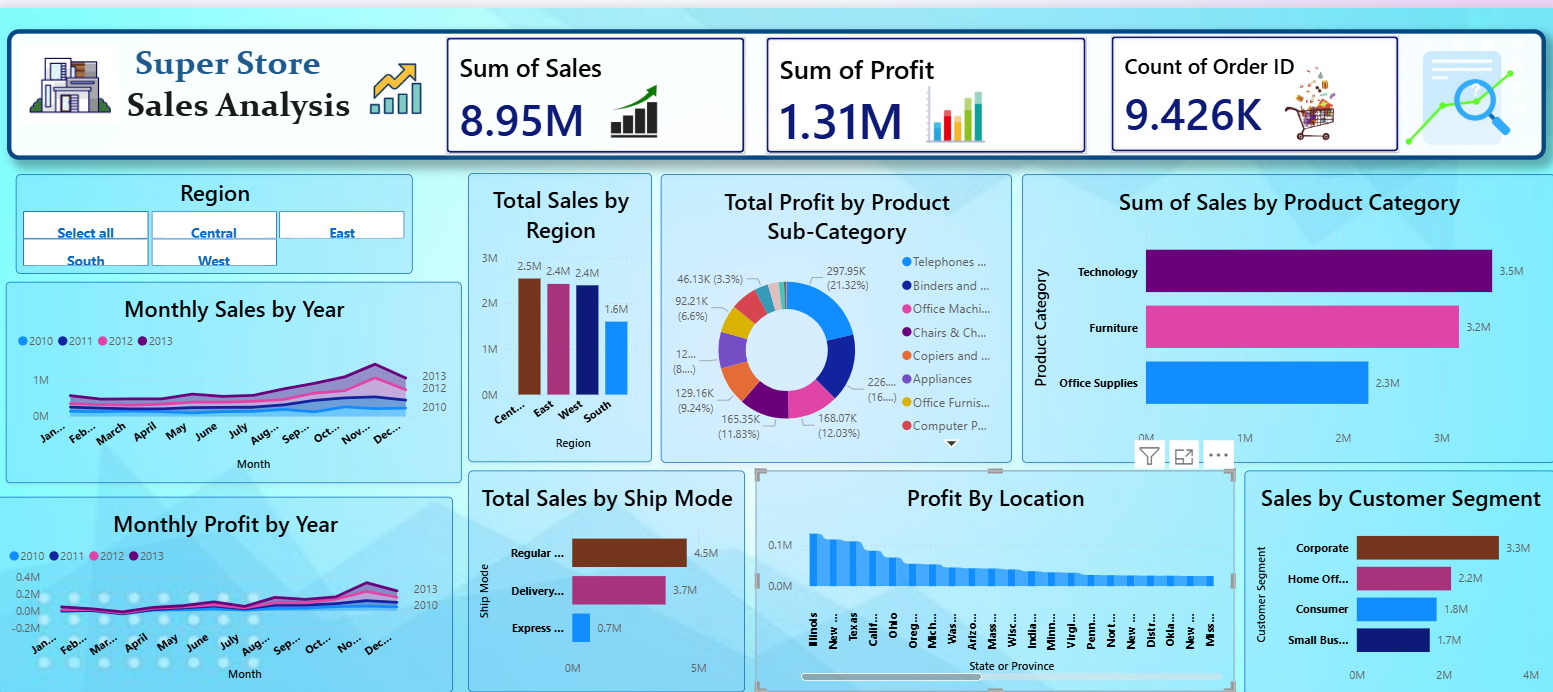

What the dashboard file says about the page in this screenshot:
{"tool":"powerbi","page":{"name":"Dashboard_4","canvas":[1690,751],"ordinal":5},"visuals":[{"type":"textbox","box":[10.7,23,1668.8,141.2],"z":0},{"type":"image","box":[20.3,34.3,118.1,97.8],"z":1000},{"type":"image","box":[389.9,34.3,83.8,106.7],"z":2000},{"type":"cardVisual","fields":{"Data":["Sum(Orders.Sales)"]},"box":[486.7,30.7,325.5,127.4],"z":3000},{"type":"image","box":[629.5,0,116.7,224.1],"z":4000},{"type":"cardVisual","fields":{"Data":["Sum(Orders.Profit)"]},"box":[833.6,30.7,348.5,127.4],"z":5000},{"type":"cardVisual","fields":{"Data":["CountNonNull(Orders.Order ID)"]},"box":[1208.2,29.2,313.2,127.4],"z":6000},{"type":"image","box":[1001,67.6,76.8,96.7],"z":7000},{"type":"image","box":[1381.7,49.1,92.1,109],"z":8000},{"type":"image","box":[1492.3,0,187.3,195],"z":9000},{"type":"advancedSlicerVisual","fields":{"Values":["Users.Region"]},"box":[20.3,180.3,430.5,107.9],"z":10000},{"type":"stackedAreaChart","title":"Monthly Sales by Year","fields":{"Category":["Orders.Order Date.Variation.Date Hierarchy.Month"],"Y":["Sum(Orders.Sales)"],"Series":["Orders.Order Date.Variation.Date Hierarchy.Year"]},"box":[10.2,297.2,494,218.4],"z":11000},{"type":"stackedAreaChart","title":"Monthly Profit by Year","fields":{"Category":["Orders.Order Date.Variation.Date Hierarchy.Month"],"Series":["Orders.Order Date.Variation.Date Hierarchy.Year"],"Y":["Sum(Orders.Profit)"]},"box":[0,529.6,494,213.4],"z":12000},{"type":"columnChart","title":"Total Sales by Region","fields":{"Category":["Users.Region"],"Y":["Sum(Orders.Sales)"]},"box":[510.5,179.1,199.4,313.7],"z":13000},{"type":"donutChart","title":"Total Profit by Product Sub-Category","fields":{"Y":["Sum(Orders.Profit)"],"Category":["Orders.Product Sub-Category"]},"box":[720,179.6,380.7,313.2],"z":14000},{"type":"clusteredBarChart","title":"Total Sales by Ship Mode","fields":{"Category":["Orders.Ship Mode"],"Y":["Sum(Orders.Sales)"]},"box":[510.5,501.6,299.7,241.3],"z":15000},{"type":"clusteredBarChart","title":"Sales by Customer Segment","fields":{"Category":["Orders.Customer Segment"],"Y":["Sum(Orders.Sales)"]},"box":[1352.6,502,337.8,248.7],"z":16000},{"type":"clusteredBarChart","fields":{"Category":["Orders.Product Category"],"Y":["Sum(Orders.Sales)"]},"box":[1111.5,179.6,578.8,313.2],"z":18000},{"type":"ribbonChart","title":"Profit By Location","fields":{"Category":["Orders.State or Province"],"Y":["Sum(Orders.Profit)"]},"box":[822.9,502,518.9,241],"z":18001}]}

Visuals, with their boxes in screenshot pixels (x1, y1, x2, y2), scaled from the page's 1690x751 canvas onto the 1553x692 screenshot:
textbox: 10, 21, 1543, 151
image: 19, 32, 127, 122
image: 358, 32, 435, 130
cardVisual - Sum(Orders.Sales): 447, 28, 746, 146
image: 578, 0, 686, 206
cardVisual - Sum(Orders.Profit): 766, 28, 1086, 146
cardVisual - CountNonNull(Orders.Order ID): 1110, 27, 1398, 144
image: 920, 62, 990, 151
image: 1270, 45, 1354, 146
image: 1371, 0, 1543, 180
advancedSlicerVisual - Users.Region: 19, 166, 414, 266
"Monthly Sales by Year" stackedAreaChart: 9, 274, 463, 475
"Monthly Profit by Year" stackedAreaChart: 0, 488, 454, 685
"Total Sales by Region" columnChart: 469, 165, 652, 454
"Total Profit by Product Sub-Category" donutChart: 662, 165, 1011, 454
"Total Sales by Ship Mode" clusteredBarChart: 469, 462, 745, 685
"Sales by Customer Segment" clusteredBarChart: 1243, 463, 1552, 691
clusteredBarChart - Orders.Product Category x Sum(Orders.Sales): 1021, 165, 1552, 454
"Profit By Location" ribbonChart: 756, 463, 1233, 685
